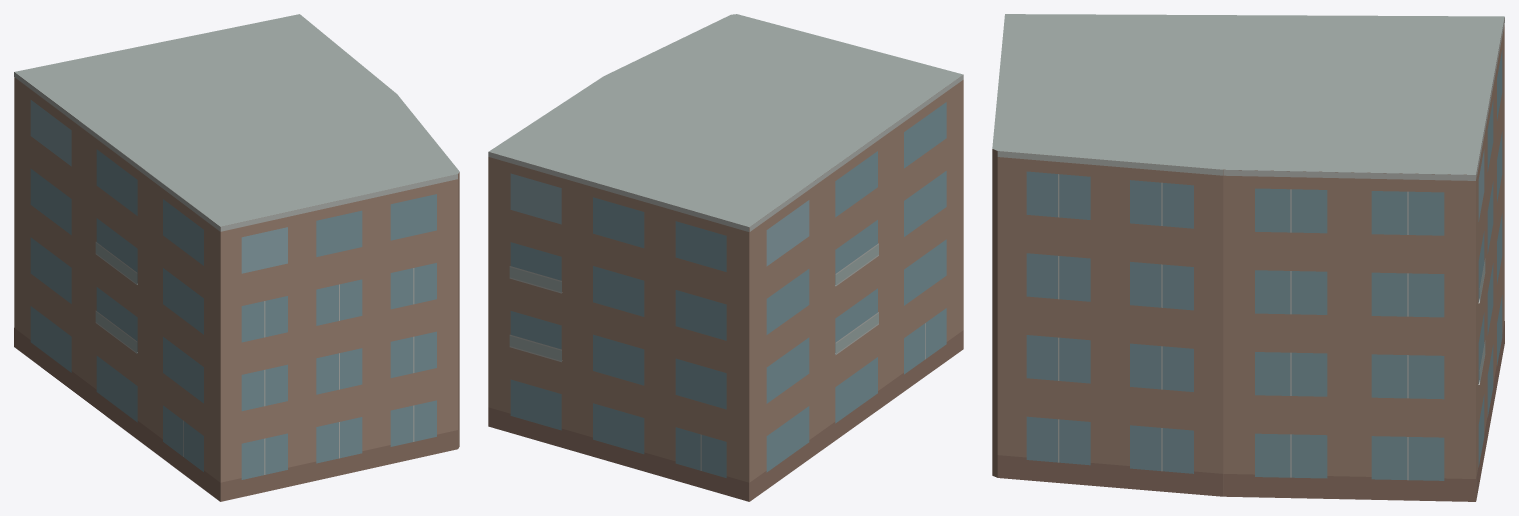
Rendered from survey-upis-32469278.glb.
3 views of the same model, side by side, from view 1: azimuth 30°, elevation 25°; view 2: azimuth 150°, elevation 25°; view 3: azimuth 270°, elevation 25° (orthographic). The views are drawn at different scales.
Parts seen in each view (by area): view 1: survey-upis-32469278.tmp; view 2: survey-upis-32469278.tmp; view 3: survey-upis-32469278.tmp.
Boxes of the visible parts, x1,y1,x2,y2 form: survey-upis-32469278.tmp: [14, 14, 459, 501]; survey-upis-32469278.tmp: [488, 14, 963, 501]; survey-upis-32469278.tmp: [992, 14, 1504, 501].
Bounding box in the file's own units: 14 × 13.25 × 18.83.
